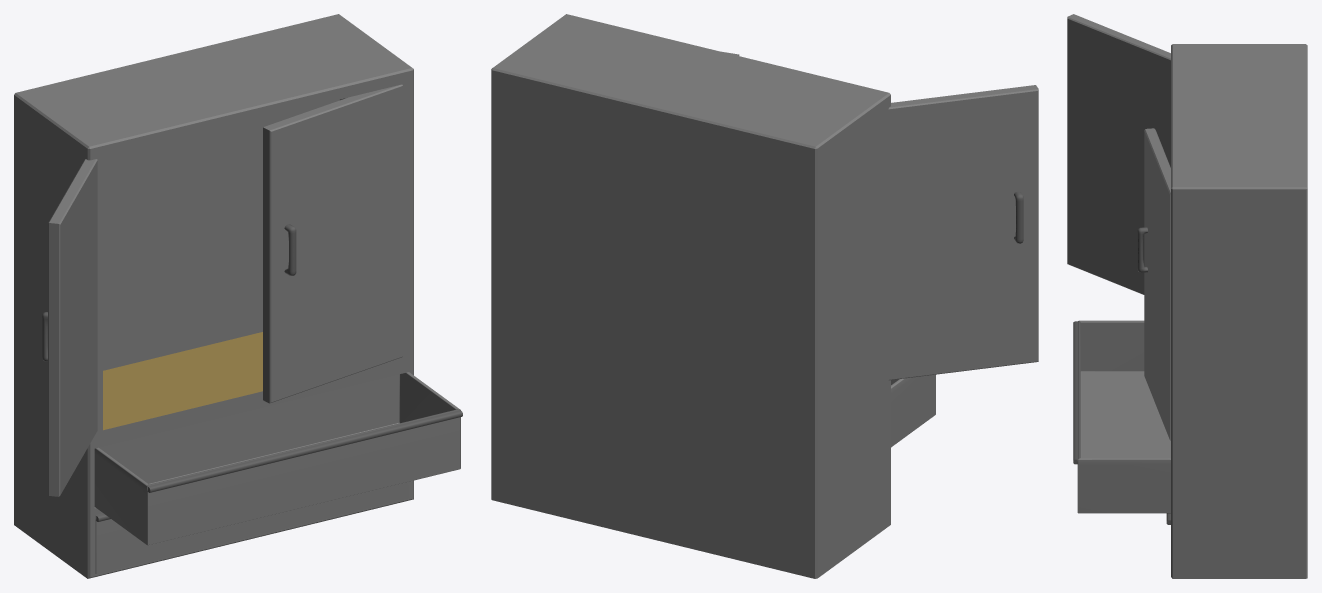
Rendered from CupboardOpenGeo.fbx.
3 renders of one model, left to right at view 1: azimuth 30°, elevation 25°; view 2: azimuth 150°, elevation 25°; view 3: azimuth 270°, elevation 25°, orthographic. The views are drawn at different scales.
Visible parts, largest first — view 1: CupboardOpenGeo; view 2: CupboardOpenGeo; view 3: CupboardOpenGeo.
Part boxes in pixels (x1,y1,x2,y2): CupboardOpenGeo: [14, 14, 462, 578]; CupboardOpenGeo: [491, 14, 1038, 578]; CupboardOpenGeo: [1067, 14, 1307, 578].
Bounding box in the file's own units: 468 × 460 × 256.
